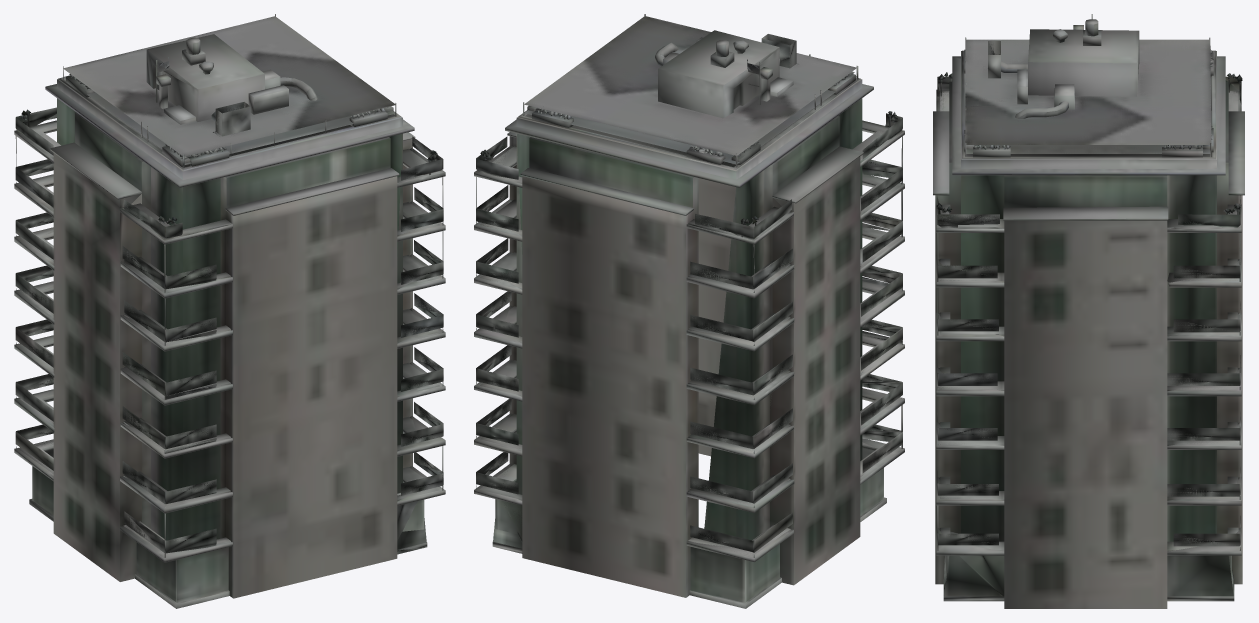
Rendered from city-apartment.glb.
3 views of the same model, side by side, from view 1: azimuth 30°, elevation 25°; view 2: azimuth 150°, elevation 25°; view 3: azimuth 270°, elevation 25° (orthographic).
Visible parts, largest first — view 1: Apartment block; view 2: Apartment block; view 3: Apartment block.
Boxes of the visible parts, x1,y1,x2,y2 form: Apartment block: (14,14,445,608); Apartment block: (474,14,904,608); Apartment block: (933,14,1244,608).
Size of the model in its own units: 0.6074 by 0.998 by 0.5645.
Materials: 1 (1 with a texture image).
